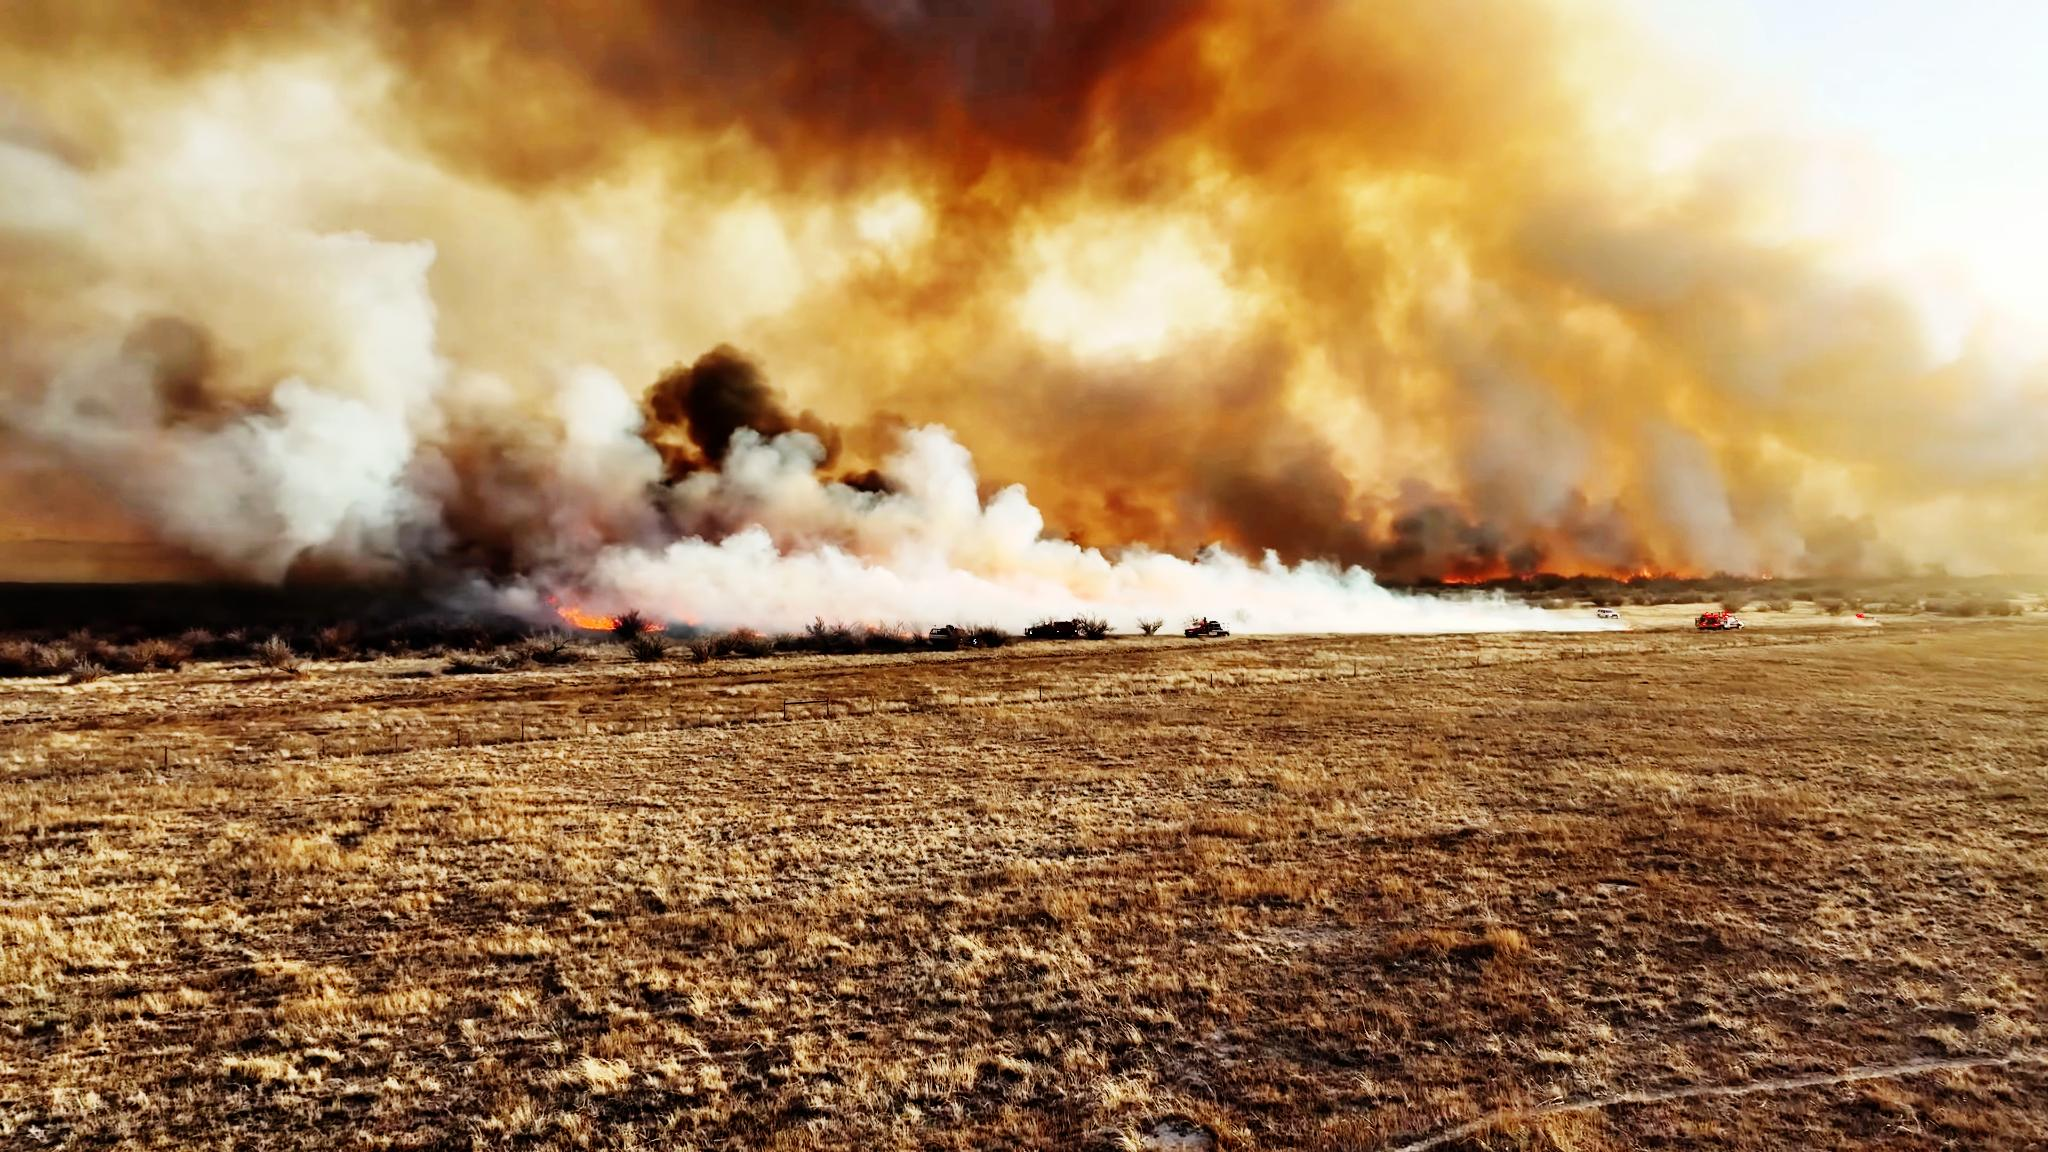smoke: (360, 0, 1138, 248), (0, 214, 453, 565), (506, 366, 1054, 536), (629, 436, 1030, 636), (972, 540, 1370, 625)
